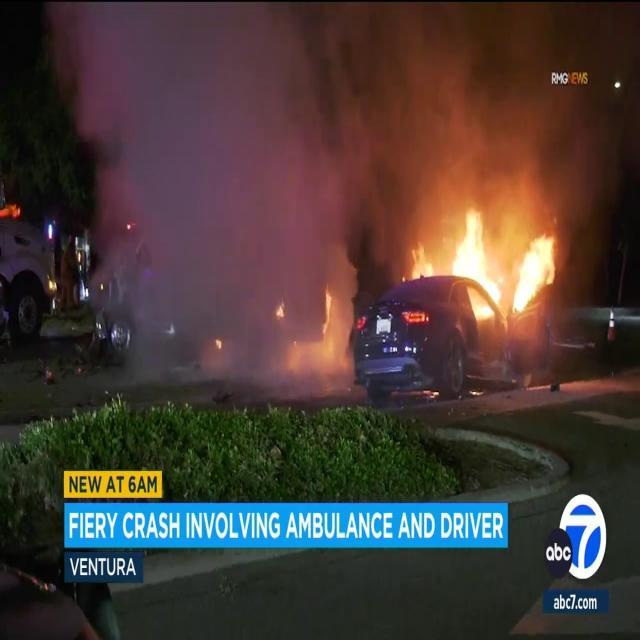Fire: (410, 204, 558, 318)
Smoke: (66, 2, 618, 235), (255, 2, 615, 232)
